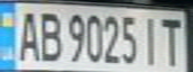0: (84, 10, 106, 64)
2: (103, 10, 121, 65)
5: (118, 11, 142, 66)
9: (63, 9, 84, 63)
A: (12, 6, 42, 62)
B: (36, 7, 63, 62)
I: (139, 12, 163, 66)
T: (157, 14, 187, 68)
